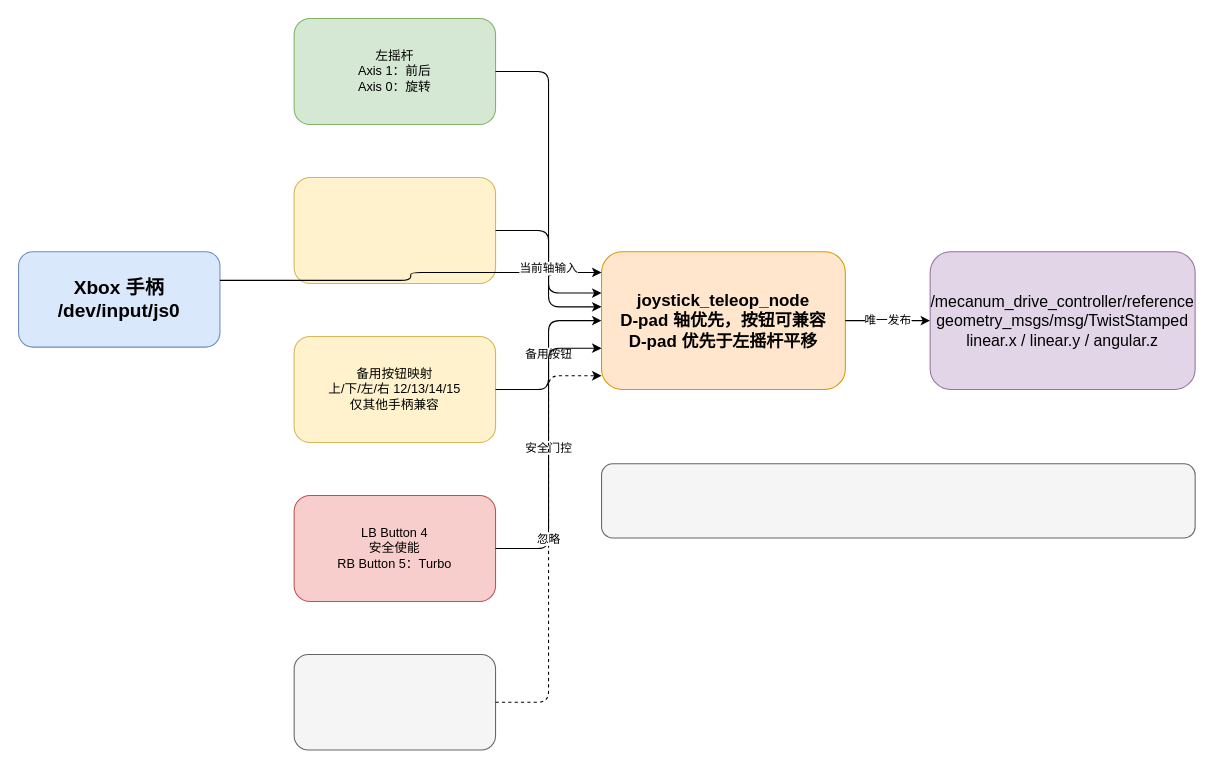
This 1214x768 diagram has some shape labels left out. The shapes that lost their labels are listed below. From the top down, each one's box as (x1, y1, x2, y2) in pixels, then its label:
(293, 176, 496, 284): D-pad 轴（当前 Xbox） 水平 Axis 6：左 -1 / 右 +1 垂直 Axis 7：上 +1 / 下 -1
(600, 463, 1195, 538): 方向键速度：普通 0.5 m/s，Turbo 1.0 m/s；可在 xbox_teleop.yaml 调整
(293, 653, 496, 750): 右摇杆 Axis 2 / Axis 3 不参与控制
